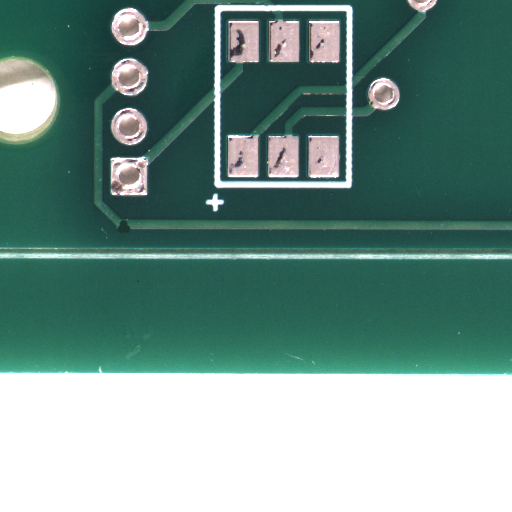Mouse_bite: (123, 226, 136, 239)
